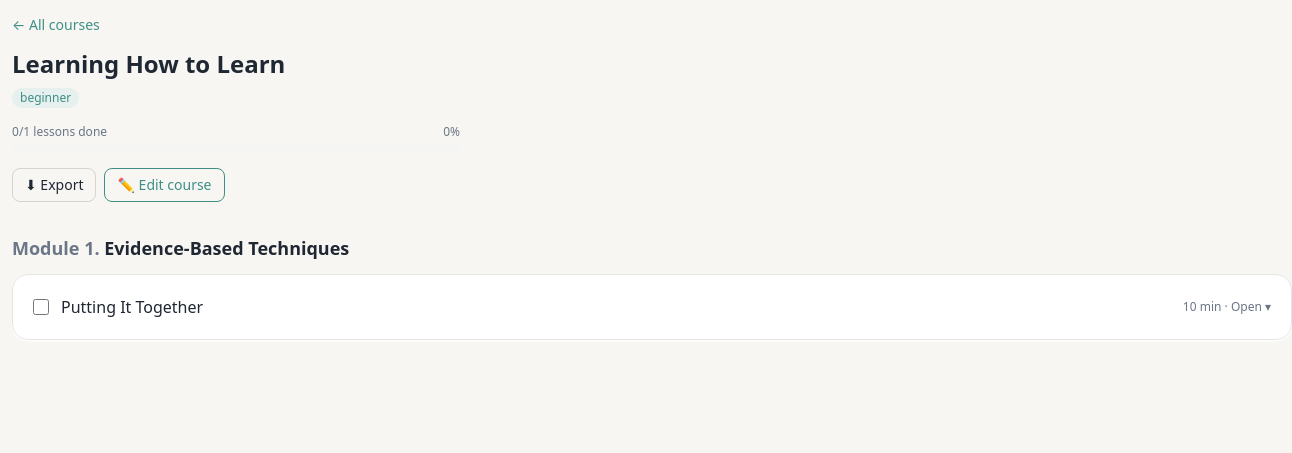
CourseDetail — course quizzes (M2) › shows 'Take quiz' for an unattempted quiz
Click the button "Putting It Together 10 min · Open ▾".
click(132, 307)  # box 61,295 -> 1271,319
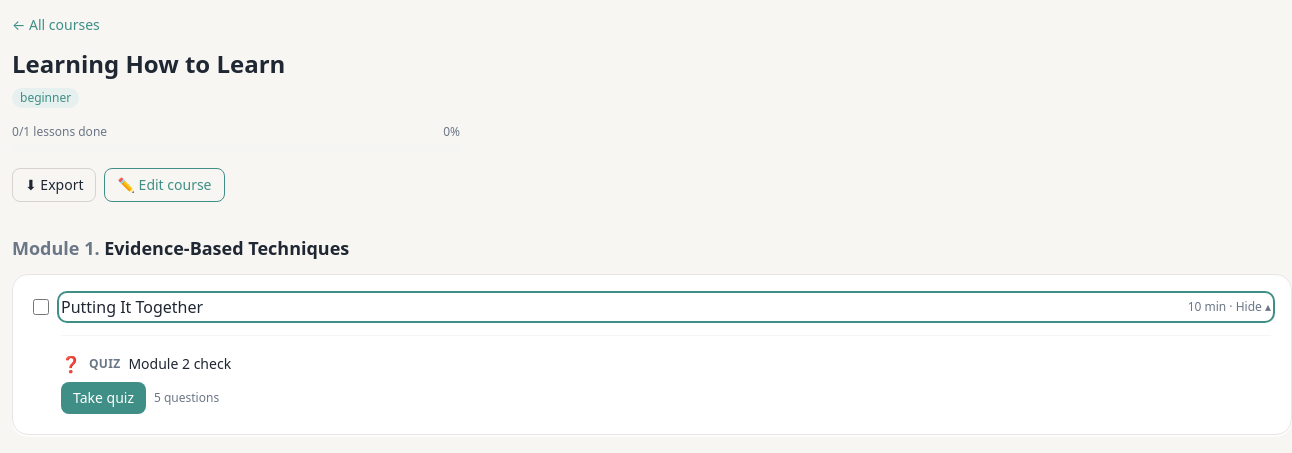
Expected: the link "Take quiz" is shown, 61,382 -> 146,414
